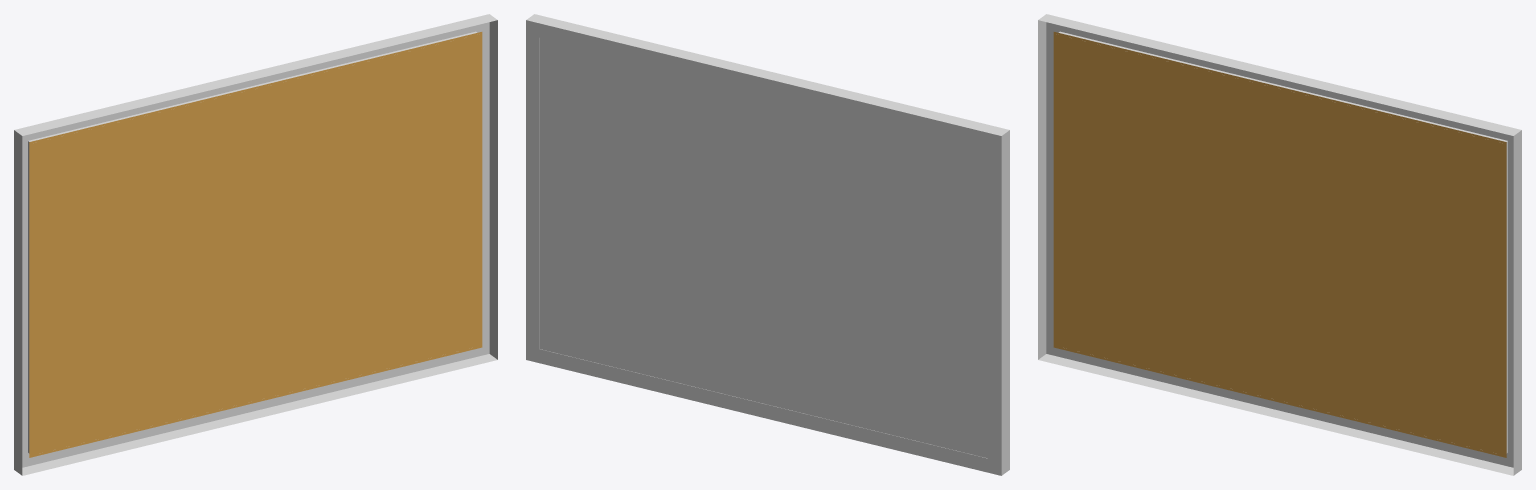
File: PictureFramed.fbx
3 renders of one model, left to right at view 1: azimuth 30°, elevation 25°; view 2: azimuth 150°, elevation 25°; view 3: azimuth 330°, elevation 25°, orthographic.
Visible parts, largest first — view 1: Picture, PictureFrame, Glas; view 2: Glas, PictureFrame; view 3: Picture, PictureFrame, Glas.
Boxes of the visible parts, <box> form: Picture: <box>29,32,482,457</box>; PictureFrame: <box>14,14,497,475</box>; Glas: <box>25,29,478,454</box>; Glas: <box>540,37,987,458</box>; PictureFrame: <box>526,14,1009,475</box>; Picture: <box>1053,32,1506,457</box>; PictureFrame: <box>1038,14,1521,475</box>; Glas: <box>1057,29,1510,454</box>.
Bounding box in the file's own units: 328 × 224 × 10.
